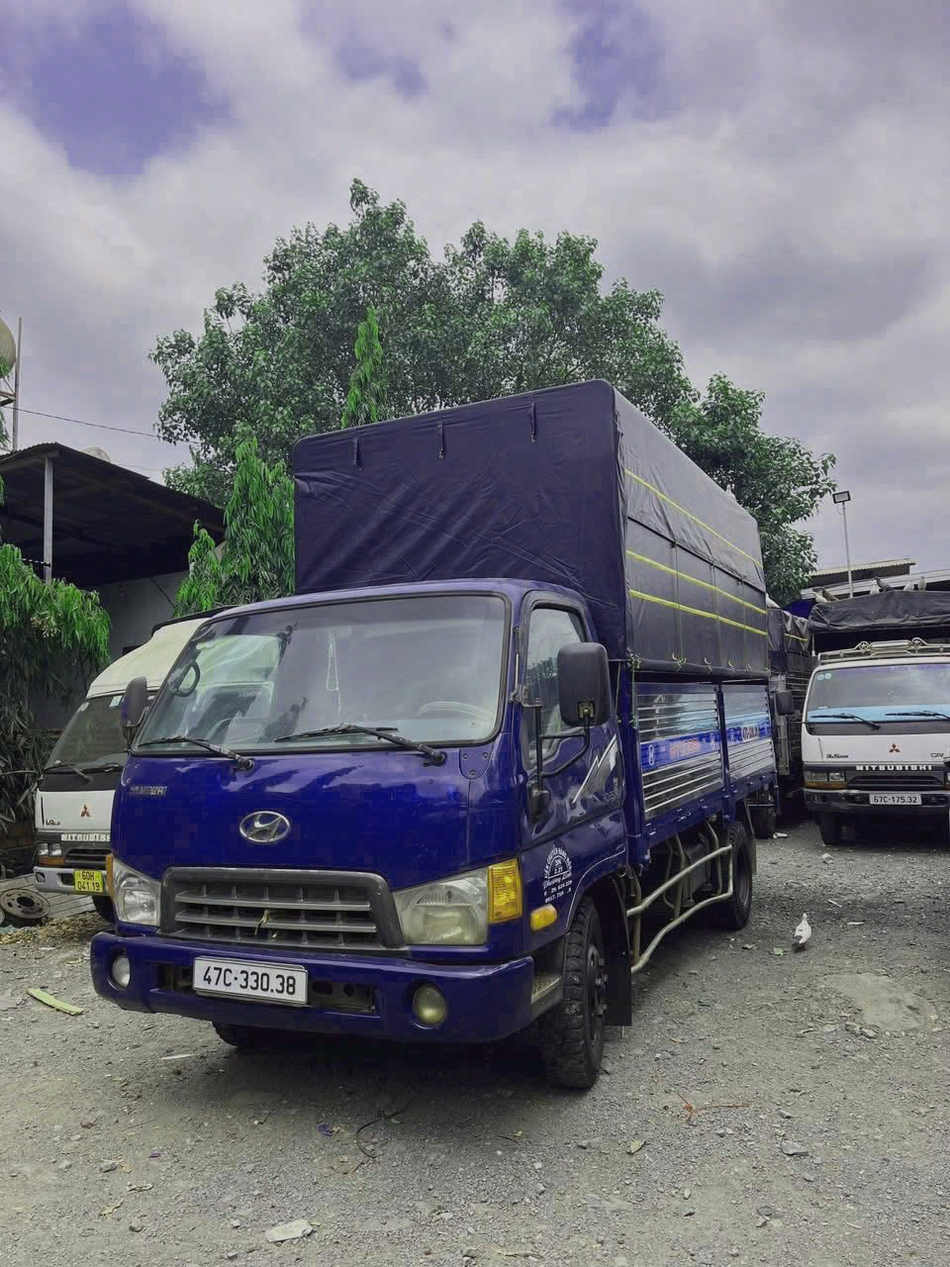Bien-so: (195, 956, 306, 1008), (868, 785, 920, 806), (75, 867, 109, 897)
